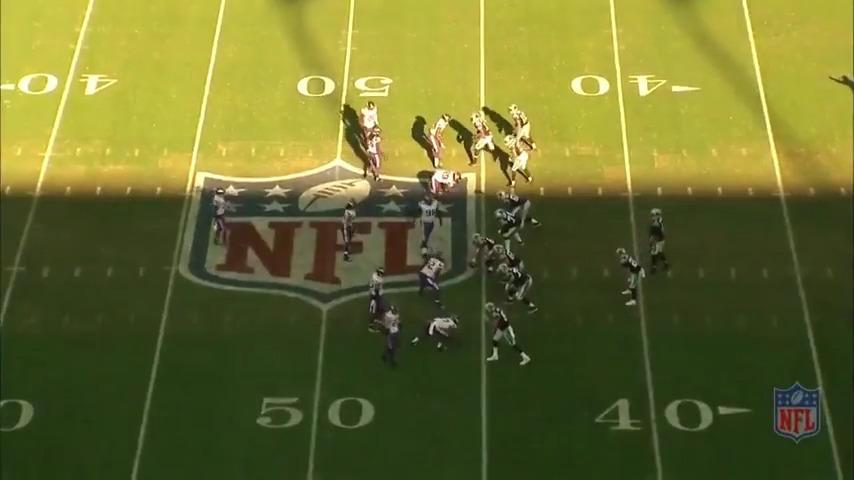defense: (413, 193, 445, 259), (411, 315, 461, 354), (379, 307, 405, 372), (426, 112, 455, 170), (416, 255, 447, 309), (367, 266, 391, 333), (338, 201, 361, 265), (364, 128, 388, 186), (422, 168, 464, 199), (210, 186, 230, 249), (360, 100, 382, 142)
oline: (466, 232, 512, 278), (500, 264, 537, 319), (499, 192, 538, 233), (494, 206, 526, 250), (492, 241, 526, 278)
qb: (645, 202, 673, 278)
skill: (481, 300, 530, 370), (614, 245, 645, 312), (503, 102, 537, 158), (467, 111, 501, 167), (503, 131, 534, 188)
